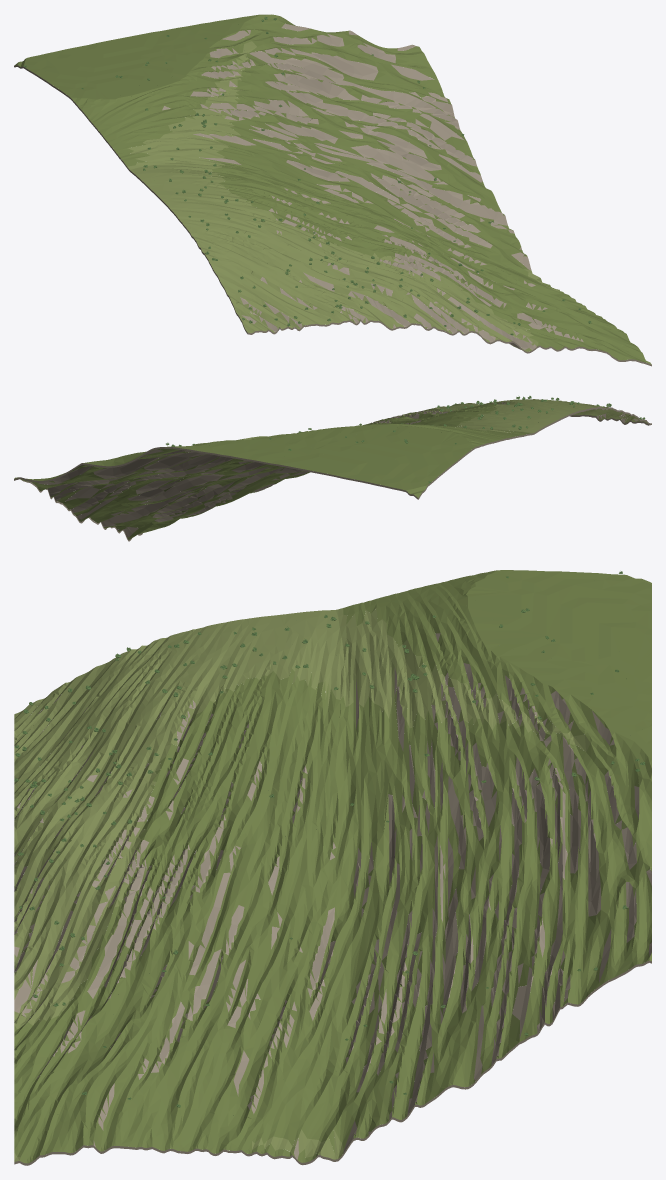
Rendered from parca_+7_-6-yakin.glb.
The picture shows the model from 3 angles, top to bottom: view 1: azimuth 30°, elevation 25°; view 2: azimuth 150°, elevation 25°; view 3: azimuth 270°, elevation 25°; orthographic projection. The views are drawn at different scales.
Visible parts, largest first — view 1: parca_+7_-6_arazi, parca_+7_-6_bitkiler; view 2: parca_+7_-6_arazi, parca_+7_-6_bitkiler; view 3: parca_+7_-6_arazi, parca_+7_-6_bitkiler.
Boxes of the visible parts, x1,y1,x2,y2 form: parca_+7_-6_arazi: (14, 14, 651, 366); parca_+7_-6_bitkiler: (18, 16, 591, 335); parca_+7_-6_arazi: (14, 399, 651, 541); parca_+7_-6_bitkiler: (61, 396, 645, 501); parca_+7_-6_arazi: (14, 570, 651, 1165); parca_+7_-6_bitkiler: (14, 571, 645, 1119).
Size of the model in its own units: 1003 by 571 by 1001.
